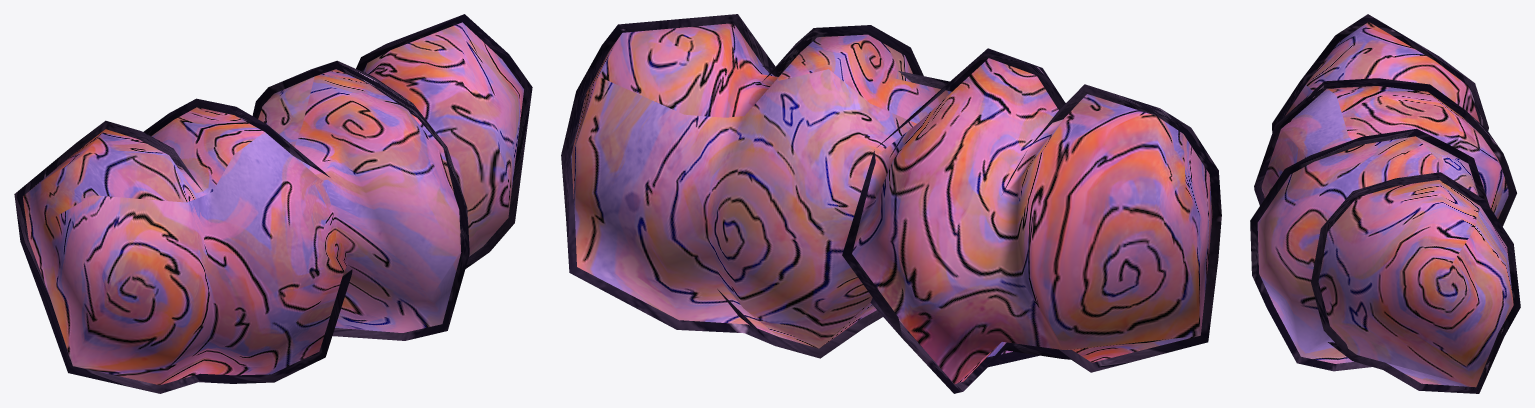
Rendered from polygonalmind-momuspark-004.glb.
3 views of the same model, side by side, from view 1: azimuth 30°, elevation 25°; view 2: azimuth 150°, elevation 25°; view 3: azimuth 270°, elevation 25° (orthographic). The views are drawn at different scales.
Visible parts, largest first — view 1: Bush_02_Art; view 2: Bush_02_Art; view 3: Bush_02_Art.
Boxes of the visible parts, x1=… form: Bush_02_Art: x1=14, y1=14, x2=532, y2=393; Bush_02_Art: x1=561, y1=14, x2=1221, y2=393; Bush_02_Art: x1=1250, y1=14, x2=1520, y2=393.
Size of what is drawn, in the model's own units: 2.85 by 1.36 by 1.47.
2 materials, 2 textured.
